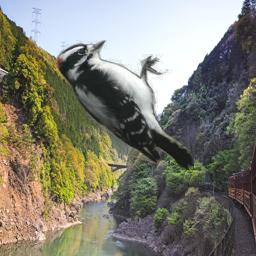Woodpecker: (57, 40, 194, 170)
